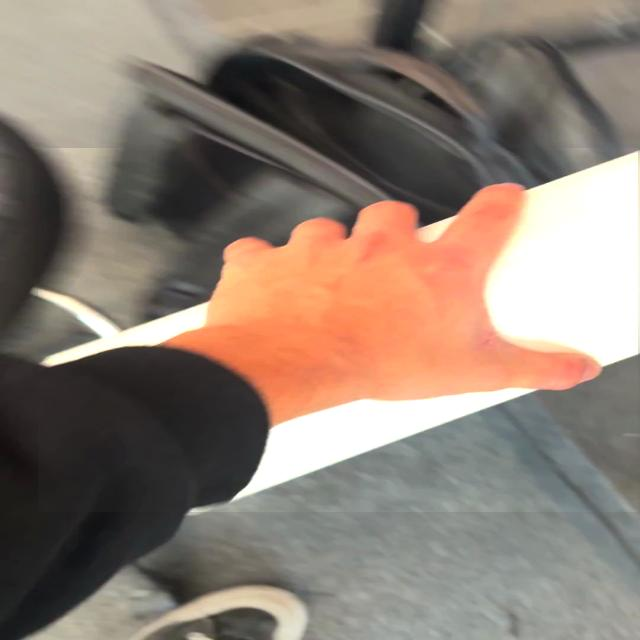Coral: (38, 148, 638, 512)
